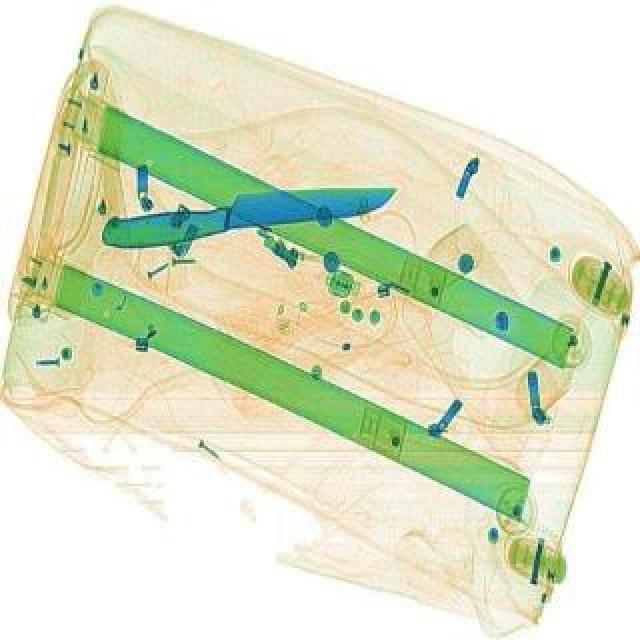knife: (96, 176, 400, 250)
